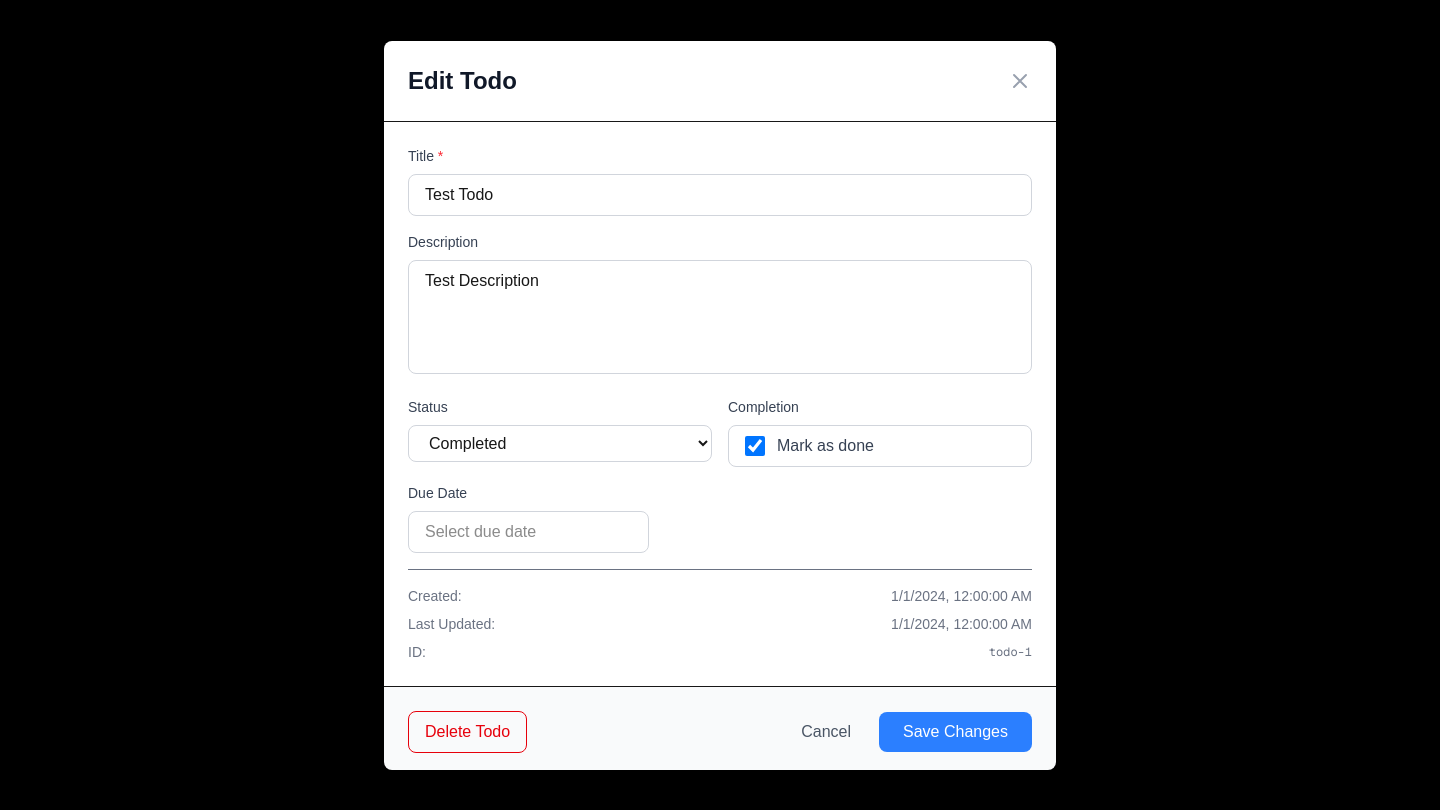
Scenario: TodoModal › Done checkbox and status synchronization › should set status to in_progress when done is unchecked
Click the checkbox labelled "Mark as done".
click(755, 446)  # box [745,436,765,456]
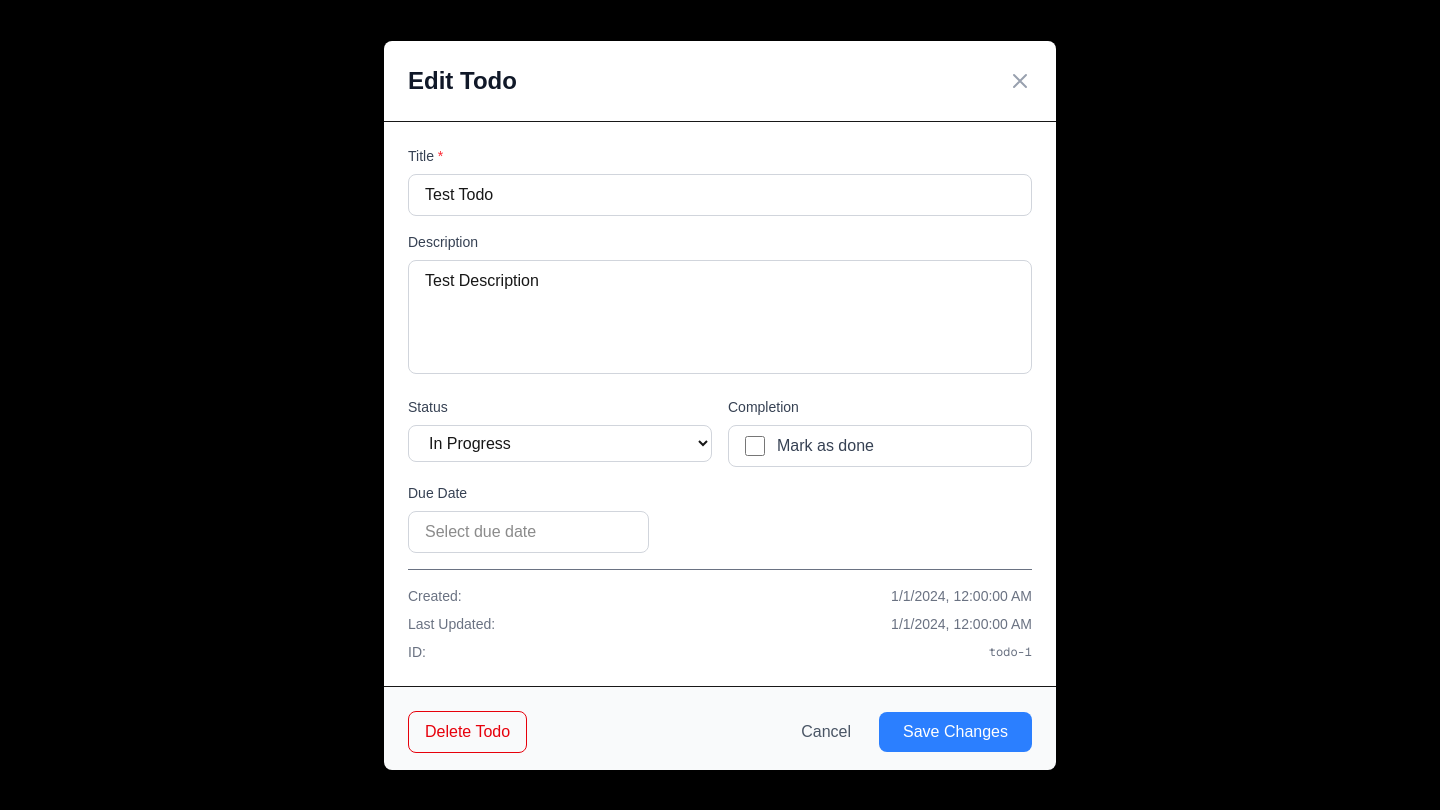
Now the dropdown shows "In Progress", box [408,424,712,462]
